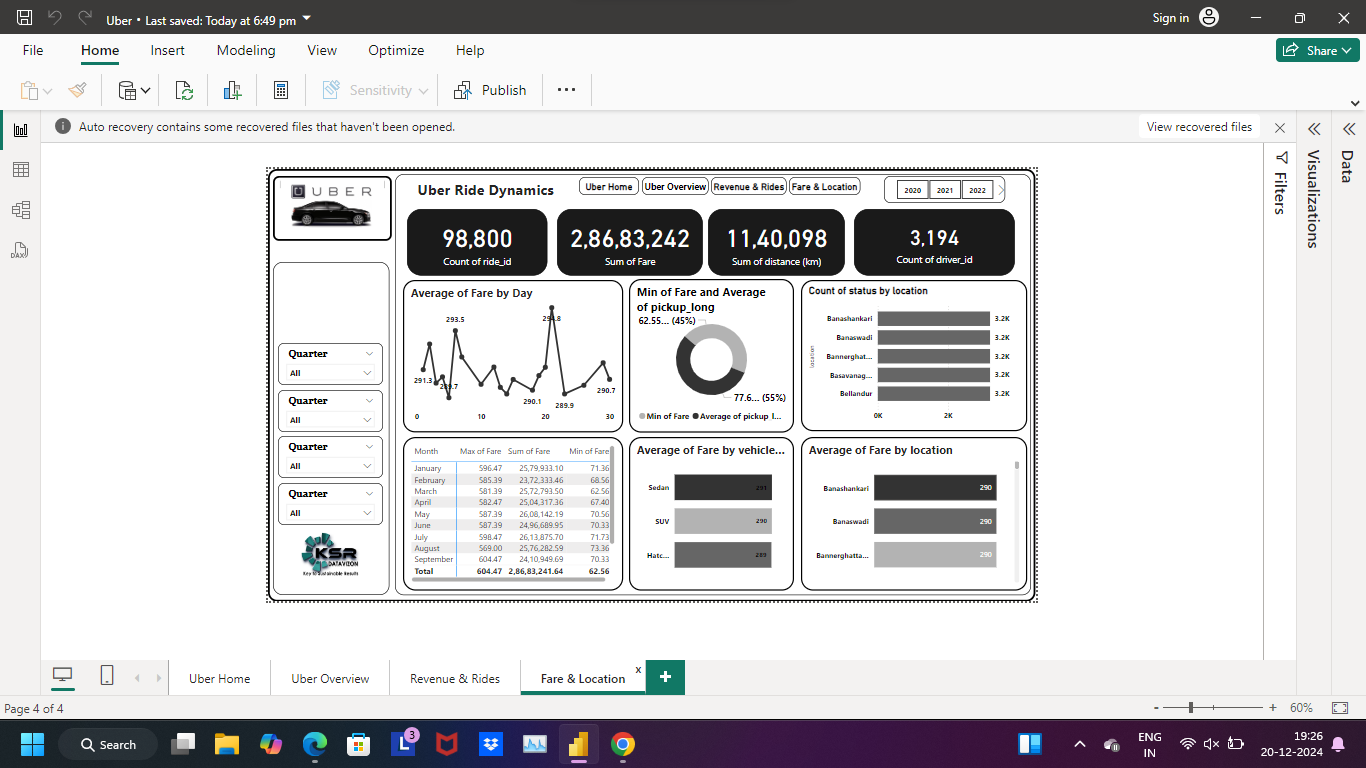

The page's visual inventory and layout, read from the dashboard file:
{"tool":"powerbi","page":{"name":"Fare & Location","canvas":[1280,720],"ordinal":3},"visuals":[{"type":"shape","box":[0,0,1279.2,720.8],"z":0},{"type":"shape","box":[211.5,7.7,1059.6,701.9],"z":1000},{"type":"slicer","fields":{"Values":["Sheet1.created_at.Variation.Date Hierarchy.Year"]},"box":[1026.4,11.3,202,45.3],"z":2000},{"type":"textbox","box":[232.1,11.3,262.3,41.5],"z":3000},{"type":"actionButton","box":[518.9,13.2,100,30.2],"z":4000},{"type":"card","fields":{"Values":["CountNonNull(Driver.driver_id)"]},"box":[977.4,66,267.9,111.3],"z":5000},{"type":"card","fields":{"Values":["Sum(Rides.distance (km))"]},"box":[734,66,228.3,111.3],"z":6000},{"type":"card","fields":{"Values":["Sum(Rides.Fare)"]},"box":[481.1,66,243.4,111.3],"z":7000},{"type":"card","fields":{"Values":["CountNonNull(Rides.ride_id)"]},"box":[232.1,66,234,111.3],"z":8000},{"type":"clusteredBarChart","fields":{"Category":["Location.location"],"Y":["CountNonNull(Driver.status)"]},"box":[888.5,184.6,376.9,251.9],"z":9000},{"type":"donutChart","fields":{"Y":["Min(Rides.Fare)","Avg(Rides.pickup_long)"]},"box":[601.9,182.7,275,255.8],"z":10000},{"type":"lineChart","fields":{"Y":["Avg(Rides.Fare)"],"Category":["Rides.ride_start_time.Variation.Date Hierarchy.Day"]},"box":[225,184.6,367.3,253.8],"z":11000},{"type":"clusteredBarChart","fields":{"Y":["Avg(Rides.Fare)"],"Category":["row.vehicle_type"]},"box":[601.9,446.2,275,255.8],"z":12000},{"type":"pivotTable","fields":{"Rows":["Rides.ride_start_time.Variation.Date Hierarchy.Month"],"Values":["Max(Rides.Fare)","Sum(Rides.Fare)2","Min(Rides.Fare)1"]},"box":[225,446.2,367.3,255.8],"z":13000},{"type":"shape","box":[7.5,154.7,194.3,554.7],"z":14000},{"type":"actionButton","box":[622.6,13.2,111,30.2],"z":15000},{"type":"actionButton","box":[867.9,13.2,118.9,30.2],"z":16000},{"type":"actionButton","box":[737.7,13.2,126.4,30.2],"z":17000},{"type":"slicer","fields":{"Values":["Rides.ride_end_time.Variation.Date Hierarchy.Quarter"]},"box":[17,522.6,175.5,69.8],"z":18000},{"type":"slicer","fields":{"Values":["Rides.ride_end_time.Variation.Date Hierarchy.Quarter"]},"box":[17,445.3,175.5,69.8],"z":19000},{"type":"slicer","fields":{"Values":["Rides.ride_end_time.Variation.Date Hierarchy.Quarter"]},"box":[17,367.9,175.5,69.8],"z":20000},{"type":"slicer","fields":{"Values":["Rides.ride_end_time.Variation.Date Hierarchy.Quarter"]},"box":[17,290.6,175.5,69.8],"z":21000},{"type":"image","box":[7.5,11.3,198.1,107.5],"z":22000},{"type":"image","box":[17,598.1,175.5,86.8],"z":23000},{"type":"barChart","fields":{"Category":["Location.location"],"Y":["Avg(Rides.Fare)"]},"box":[888.5,446.2,376.9,255.8],"z":25000}]}

Visuals, with their boxes on the page's 1280x720 design canvas (x1, y1, x2, y2). These are canvas units, not pixel positions in the 1366x768 screenshot, which may show the page scaled, cropped or inside an application window:
shape: [left=0, top=0, right=1279, bottom=721]
shape: [left=212, top=8, right=1271, bottom=710]
slicer - Sheet1.created_at.Variation.Date Hierarchy.Year: [left=1026, top=11, right=1228, bottom=57]
textbox: [left=232, top=11, right=494, bottom=53]
actionButton: [left=519, top=13, right=619, bottom=43]
card - CountNonNull(Driver.driver_id): [left=977, top=66, right=1245, bottom=177]
card - Sum(Rides.distance (km)): [left=734, top=66, right=962, bottom=177]
card - Sum(Rides.Fare): [left=481, top=66, right=724, bottom=177]
card - CountNonNull(Rides.ride_id): [left=232, top=66, right=466, bottom=177]
clusteredBarChart - Location.location x CountNonNull(Driver.status): [left=888, top=185, right=1265, bottom=436]
donutChart - Min(Rides.Fare) x Avg(Rides.pickup_long): [left=602, top=183, right=877, bottom=438]
lineChart - Avg(Rides.Fare) x Rides.ride_start_time.Variation.Date Hierarchy.Day: [left=225, top=185, right=592, bottom=438]
clusteredBarChart - Avg(Rides.Fare) x row.vehicle_type: [left=602, top=446, right=877, bottom=702]
pivotTable - Rides.ride_start_time.Variation.Date Hierarchy.Month x Max(Rides.Fare): [left=225, top=446, right=592, bottom=702]
shape: [left=8, top=155, right=202, bottom=709]
actionButton: [left=623, top=13, right=734, bottom=43]
actionButton: [left=868, top=13, right=987, bottom=43]
actionButton: [left=738, top=13, right=864, bottom=43]
slicer - Rides.ride_end_time.Variation.Date Hierarchy.Quarter: [left=17, top=523, right=192, bottom=592]
slicer - Rides.ride_end_time.Variation.Date Hierarchy.Quarter: [left=17, top=445, right=192, bottom=515]
slicer - Rides.ride_end_time.Variation.Date Hierarchy.Quarter: [left=17, top=368, right=192, bottom=438]
slicer - Rides.ride_end_time.Variation.Date Hierarchy.Quarter: [left=17, top=291, right=192, bottom=360]
image: [left=8, top=11, right=206, bottom=119]
image: [left=17, top=598, right=192, bottom=685]
barChart - Location.location x Avg(Rides.Fare): [left=888, top=446, right=1265, bottom=702]
